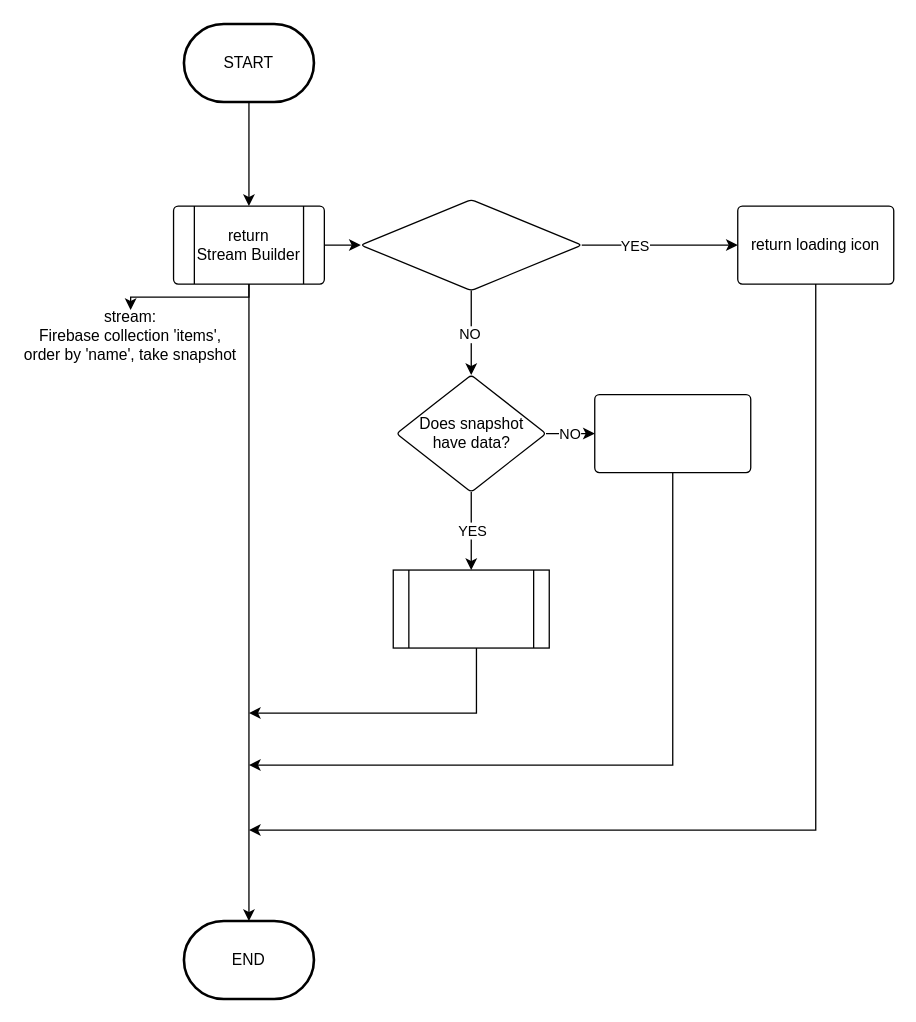
The diagram is 916 pixels wide and 1022 high, and some of its shapes have lost their labels. Each missing label, with the centre of its shape:
"Is connection state == waiting" goes at point 470,244.
"return 'no items'" goes at point 672,433.
"return listview builder using snapshot data" goes at point 470,608.
